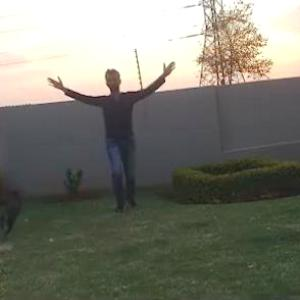takeoff: (58, 54, 204, 219)
